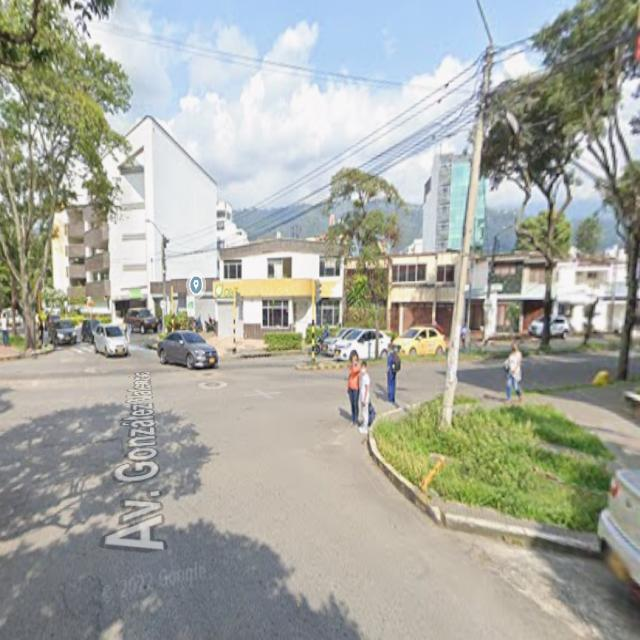Casa: (52, 116, 217, 316), (206, 237, 343, 337), (386, 251, 458, 340), (473, 251, 545, 334), (553, 255, 624, 330), (423, 154, 469, 251), (217, 200, 248, 247), (474, 178, 485, 249)
